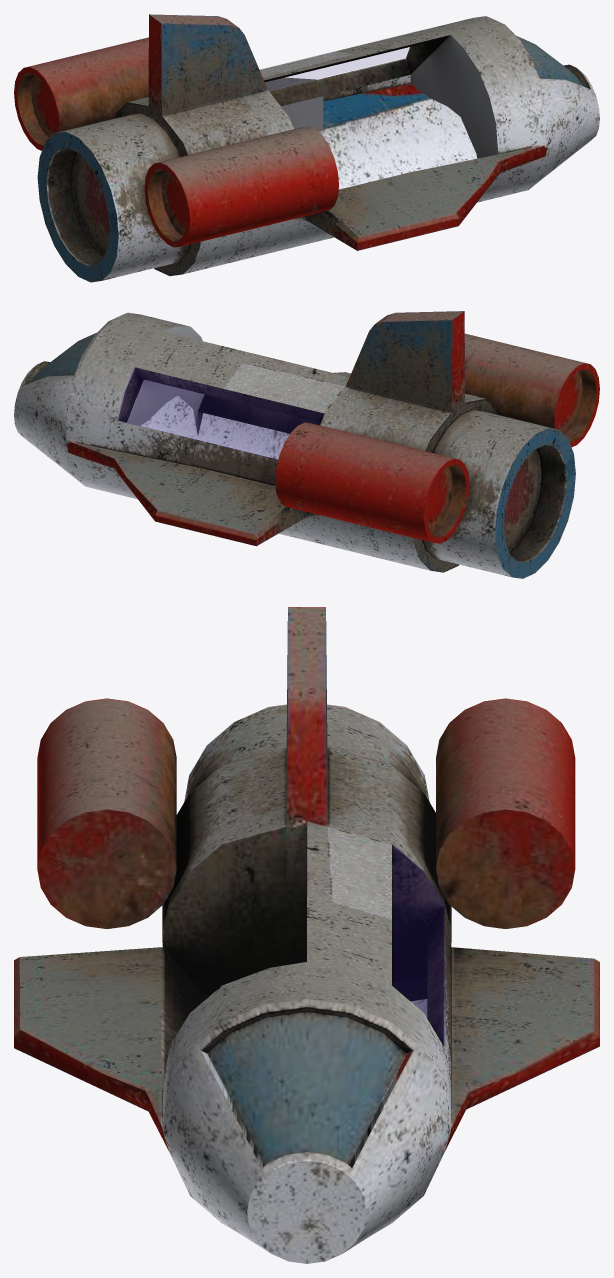
3 renders of one model, top to bottom at view 1: azimuth 30°, elevation 25°; view 2: azimuth 150°, elevation 25°; view 3: azimuth 270°, elevation 25°, orthographic. The views are drawn at different scales.
Parts seen in each view (by area): view 1: polySurface6; view 2: polySurface6; view 3: polySurface6.
Boxes of the visible parts, <box> form: polySurface6: <box>14,14,599,282</box>; polySurface6: <box>14,311,599,578</box>; polySurface6: <box>14,607,599,1263</box>.
Bounding box in the file's own units: 96.89 × 46.19 × 64.11.
Materials: 2 (1 with a texture image).
